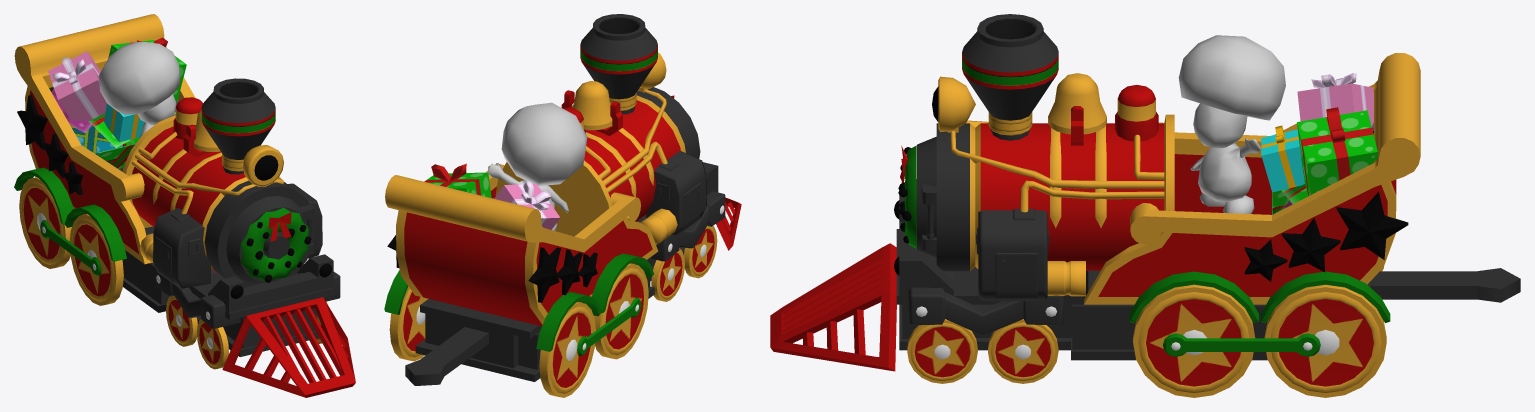
The model's file is TrainMobhc_Prefab.fbx.
3 views of the same model, side by side, from view 1: azimuth 30°, elevation 25°; view 2: azimuth 150°, elevation 25°; view 3: azimuth 270°, elevation 25° (orthographic). The views are drawn at different scales.
Visible parts, largest first — view 1: Body_LOD0, Toad_ByeByeAnime1, A_Wheel_03_Body_LOD0, A_Wheel_04_Body_LOD0, A_Wheel_01_Body_LOD0, A_Wheel_02_Body_LOD0, ConnectingRod_Body_LOD0; view 2: Body_LOD0, Toad_ByeByeAnime1, A_Wheel_04_Body_LOD0, A_Wheel_03_Body_LOD0, A_Wheel_02_Body_LOD0, A_Wheel_01_Body_LOD0, ConnectingRod_Body_LOD0; view 3: Body_LOD0, Toad_ByeByeAnime1, A_Wheel_04_Body_LOD0, A_Wheel_03_Body_LOD0, A_Wheel_02_Body_LOD0, A_Wheel_01_Body_LOD0, ConnectingRod_Body_LOD0.
Part boxes in pixels (x1,y1,x2,y2): Body_LOD0: (14, 14, 355, 397); Toad_ByeByeAnime1: (98, 42, 180, 138); A_Wheel_03_Body_LOD0: (69, 214, 123, 305); A_Wheel_04_Body_LOD0: (19, 177, 71, 268); A_Wheel_01_Body_LOD0: (197, 301, 327, 369); A_Wheel_02_Body_LOD0: (166, 296, 197, 346); ConnectingRod_Body_LOD0: (40, 220, 101, 275); Body_LOD0: (384, 14, 741, 385); Toad_ByeByeAnime1: (488, 102, 587, 230); A_Wheel_04_Body_LOD0: (389, 286, 595, 397); A_Wheel_03_Body_LOD0: (593, 263, 648, 359); A_Wheel_02_Body_LOD0: (651, 248, 684, 301); A_Wheel_01_Body_LOD0: (684, 226, 717, 278); ConnectingRod_Body_LOD0: (577, 297, 641, 356); Body_LOD0: (770, 14, 1520, 371); Toad_ByeByeAnime1: (1178, 35, 1285, 213); A_Wheel_04_Body_LOD0: (1264, 267, 1386, 397); A_Wheel_03_Body_LOD0: (1133, 284, 1255, 397); A_Wheel_02_Body_LOD0: (988, 319, 1058, 383); A_Wheel_01_Body_LOD0: (907, 319, 977, 383); ConnectingRod_Body_LOD0: (1163, 333, 1320, 356).
Size of what is drawn, in the model's own units: 7.87 by 11.29 by 23.84.
